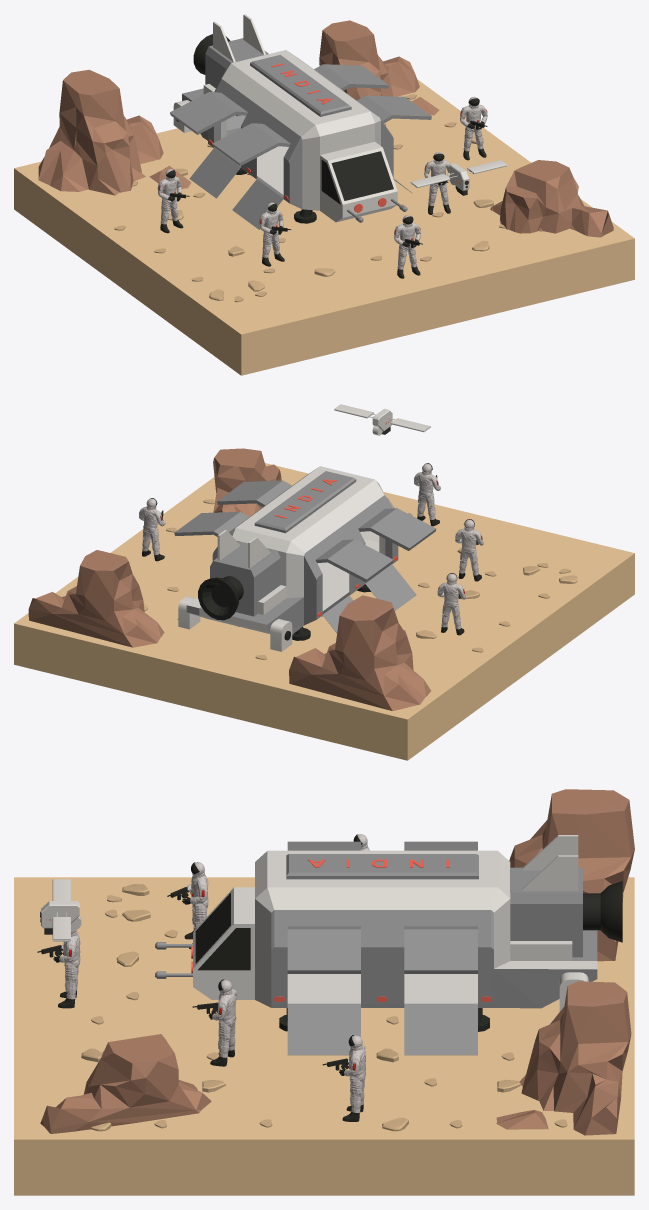
The model's file is 00 Space_12.FBX.
The picture shows the model from 3 angles, top to bottom: view 1: azimuth 30°, elevation 25°; view 2: azimuth 150°, elevation 25°; view 3: azimuth 270°, elevation 25°; orthographic projection. The views are drawn at different scales.
Visible parts, largest first — view 1: Box001, Space_12, suit002, suit004, suit, suit005, Box016, suit003; view 2: Box001, Space_12, Box016, suit, suit005, suit004, suit002; view 3: Box001, Space_12, Box016, suit003, suit004, suit002, suit005.
Boxes of the visible parts, bbox=[...] form: Box001: bbox=[14, 79, 634, 375]; Space_12: bbox=[38, 14, 613, 237]; suit002: bbox=[394, 215, 422, 278]; suit004: bbox=[460, 96, 487, 160]; suit: bbox=[157, 169, 189, 233]; suit005: bbox=[259, 202, 291, 266]; Box016: bbox=[410, 160, 506, 195]; suit003: bbox=[424, 152, 450, 214]; Box001: bbox=[14, 463, 634, 760]; Space_12: bbox=[28, 448, 436, 710]; Box016: bbox=[334, 404, 430, 435]; suit: bbox=[437, 573, 465, 635]; suit005: bbox=[455, 519, 483, 581]; suit004: bbox=[139, 498, 165, 561]; suit002: bbox=[414, 463, 440, 526]; Box001: bbox=[14, 877, 634, 1195]; Space_12: bbox=[40, 789, 634, 1135]; Box016: bbox=[40, 879, 81, 941]; suit003: bbox=[192, 979, 236, 1066]; suit004: bbox=[322, 1035, 366, 1121]; suit002: bbox=[37, 930, 80, 1008]; suit005: bbox=[167, 862, 208, 949].
Bounding box in the file's own units: 10000 × 3859 × 10004.
